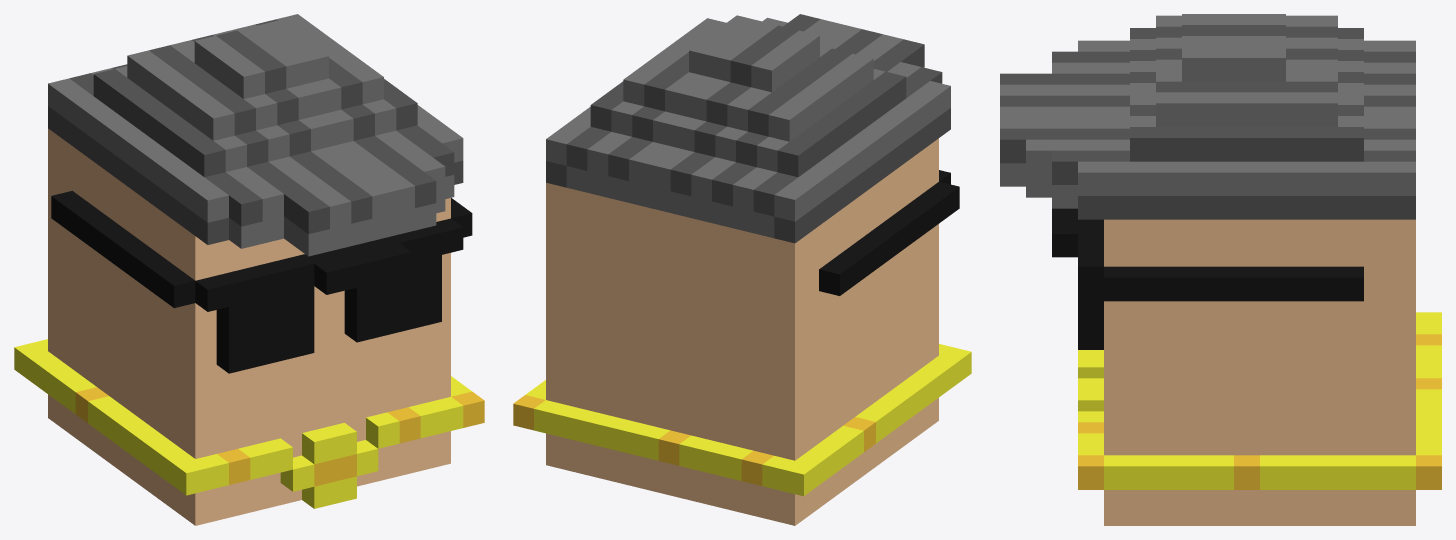
The model's file is noga-0.obj.
3 renders of one model, left to right at view 1: azimuth 30°, elevation 25°; view 2: azimuth 150°, elevation 25°; view 3: azimuth 270°, elevation 25°, orthographic. The views are drawn at different scales.
Size of the model in its own units: 1.4 by 1.8 by 1.7.
Materials: 1 (1 with a texture image).
